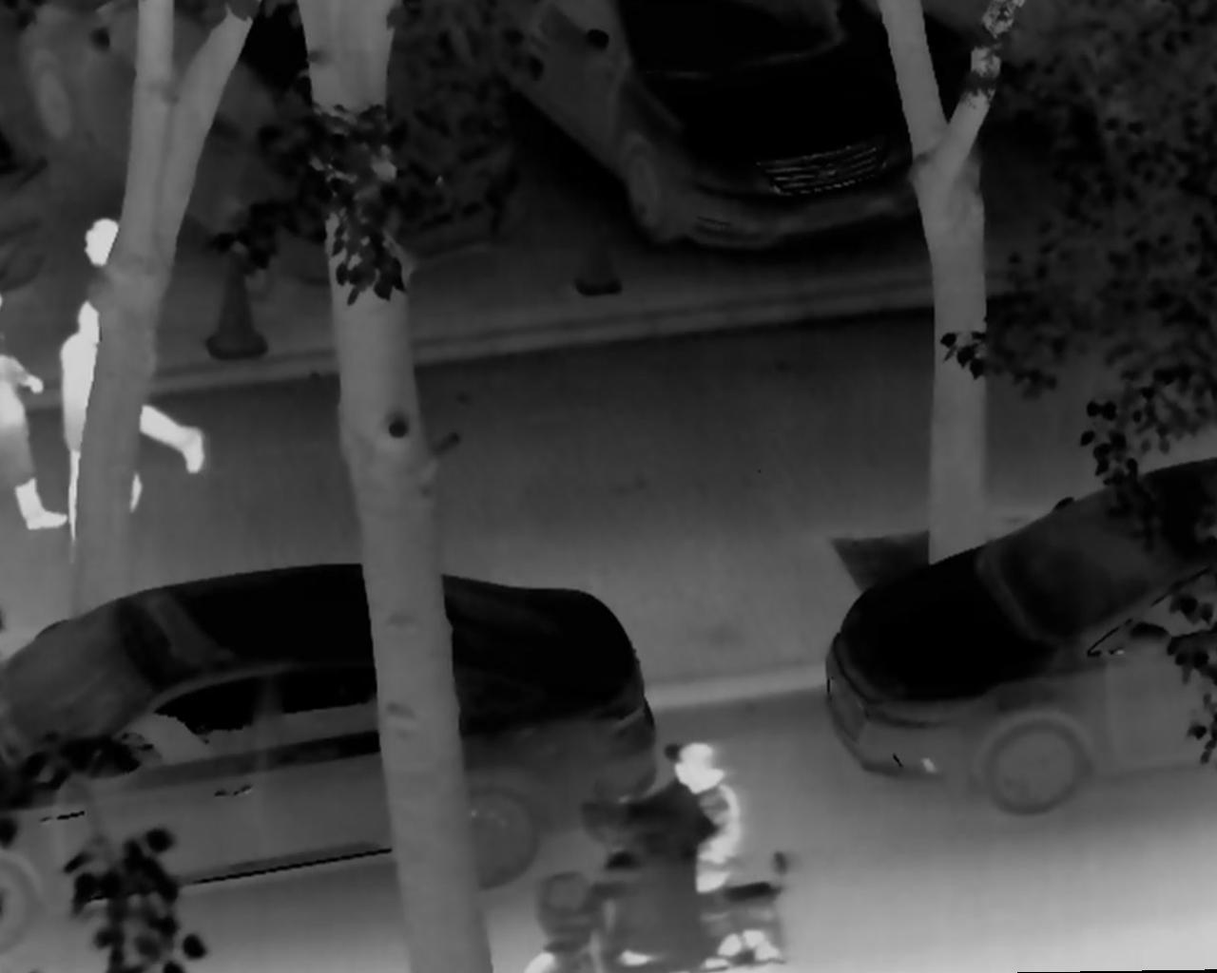person: (76, 215, 204, 515), (51, 298, 116, 563), (656, 740, 753, 906)
